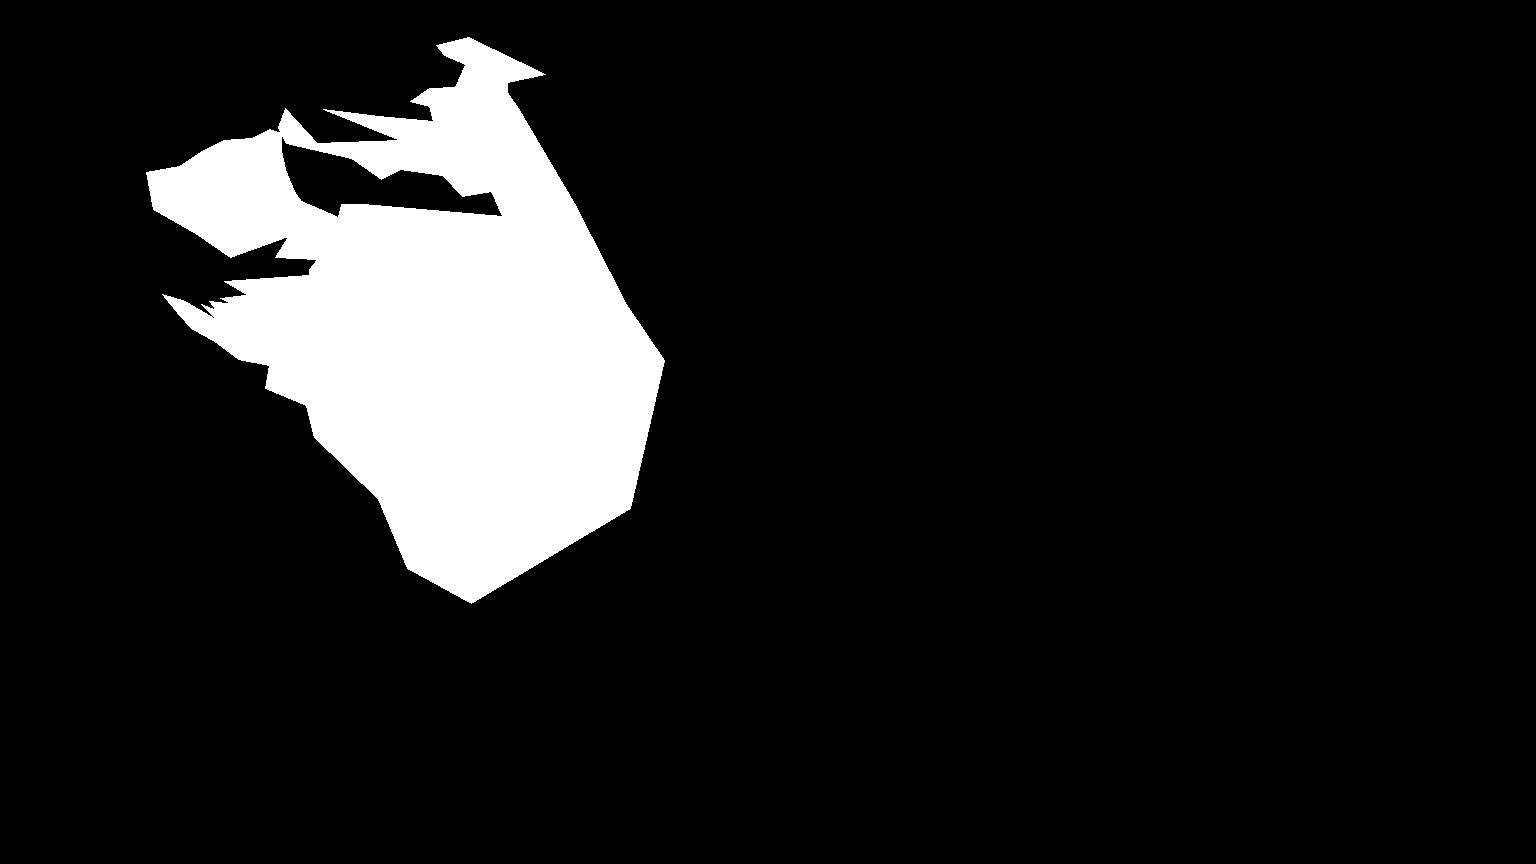Fire: (152, 102, 401, 360), (406, 40, 515, 184)
